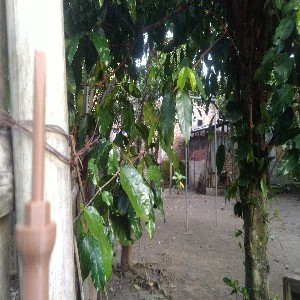obeng: (12, 51, 57, 300)
